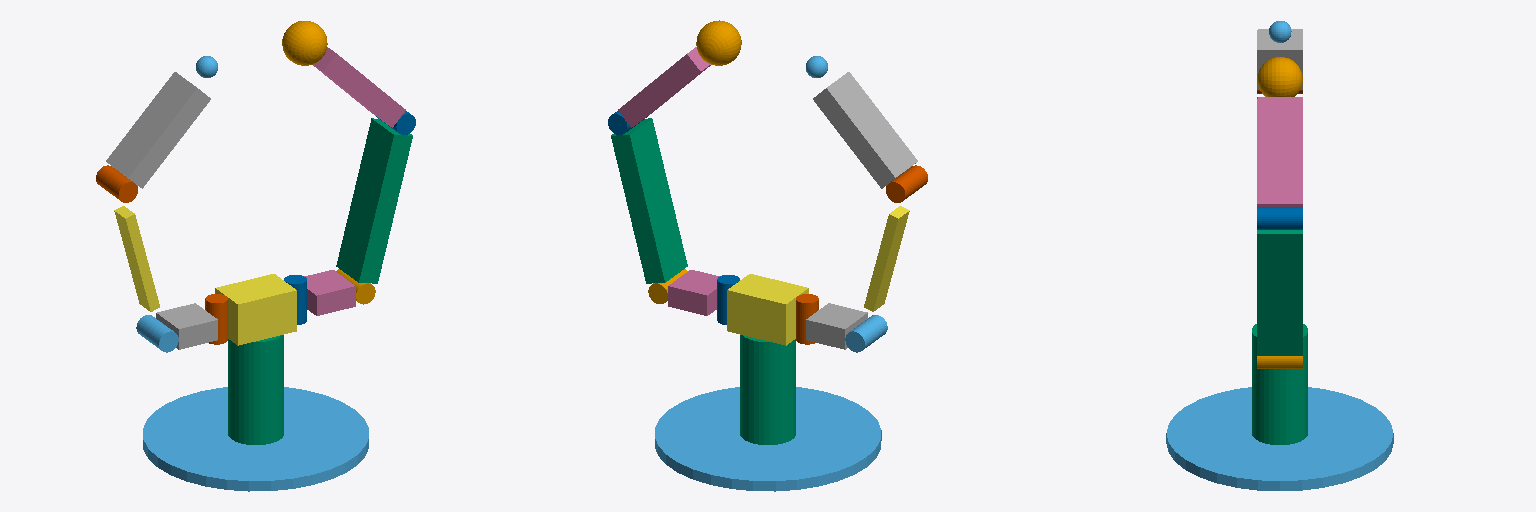
robot.urdf — gripper_v1:
<?xml version="1.0" ?>
<robot name="gripper_v1">
    <!-- ################################################################################################# -->
    <!-- Map -->
    <link name="map" />
    <!-- Base Link -->
    <link name="base_link">
        <visual>
            <geometry>
                <cylinder radius="0.5" length="0.05" />
            </geometry>
            <material name="White" />
        </visual>
        <collision>
            <geometry>
                <cylinder radius="0.4" length="0.04" />
            </geometry>
            <material name="White" />
        </collision>
        <inertial>
            <mass value="1.0" />
            <origin xyz="0 0 0" rpy="0 0 0" />
            <inertia ixx="0.01" ixy="0" ixz="0" iyy="0.01" iyz="0" izz="0.01" />
        </inertial>
    </link>
    <!-- Joint 0 -->
    <joint name="joint_0" type="fixed">
        <parent link="map" />
        <child link="base_link" />
        <origin xyz="0 0 0.025" rpy="0 0 0" />
    </joint>
    <!-- ################################################################################################# -->
    <!-- Link 1-->
    <link name="link_1">
        <visual>
            <geometry>
                <cylinder radius="0.125" length="0.5" />
            </geometry>
            <material name="Blue" />
        </visual>
        <collision>
            <geometry>
                <cylinder radius="0.1" length="0.4" />
            </geometry>
            <material name="Blue" />
        </collision>
        <inertial>
            <mass value="1.0" />
            <origin xyz="0 0 0" rpy="0 0 0" />
            <inertia ixx="0.01" ixy="0" ixz="0" iyy="0.01" iyz="0" izz="0.01" />
        </inertial>
    </link>
    <!-- Joint 1-->
    <joint name="joint_1" type="fixed">
        <parent link="base_link" />
        <child link="link_1" />
        <origin xyz="0 0 0.275" rpy="0 0 0" />
    </joint>
    <!-- ################################################################################################# -->
    <!-- Link 2-->
    <link name="link_2">
        <visual>
            <geometry>
                <box size="0.3 0.2 0.2" />
            </geometry>
            <material name="Red" />
        </visual>
        <collision>
            <geometry>
                <box size="0.2 0.1 0.1" />
            </geometry>
            <material name="Blue" />
        </collision>
        <inertial>
            <mass value="1.0" />
            <origin xyz="0 0 0" rpy="0 0 0" />
            <inertia ixx="0.01" ixy="0" ixz="0" iyy="0.01" iyz="0" izz="0.01" />
        </inertial>
    </link>
    <!-- Joint 2 -->
    <joint name="joint_2" type="revolute">
        <parent link="link_1" />
        <child link="link_2" />
        <origin xyz="0 0 0.35" rpy="0 0 0" />
        <axis xyz="0 0 1" />
        <limit effort="10" lower="-1.57" upper="1.57" velocity="5" />
    </joint>
    <!-- ################################################################################################# -->
    <!-- Link 3-->
    <link name="link_3">
        <visual>
            <geometry>
                <cylinder radius="0.05" length="0.2" />
            </geometry>
            <material name="Red" />
        </visual>
        <collision>
            <geometry>
                <cylinder radius="0.04" length="0.1" />
            </geometry>
            <material name="Blue" />
        </collision>
        <inertial>
            <mass value="1.0" />
            <origin xyz="0 0 0" rpy="0 0 0" />
            <inertia ixx="0.01" ixy="0" ixz="0" iyy="0.01" iyz="0" izz="0.01" />
        </inertial>
    </link>
    <!-- Joint 3 -->
    <joint name="joint_3" type="revolute">
        <parent link="link_2" />
        <child link="link_3" />
        <origin xyz="0.2 0 0" rpy="0 0 0" />
        <axis xyz="0 0 1" />
        <limit effort="10" lower="-1.57" upper="1.57" velocity="5" />
    </joint>
    <!-- Link 4-->
    <link name="link_4">
        <visual>
            <geometry>
                <cylinder radius="0.05" length="0.2" />
            </geometry>
            <material name="Red" />
        </visual>
        <collision>
            <geometry>
                <cylinder radius="0.04" length="0.1" />
            </geometry>
            <material name="Blue" />
        </collision>
        <inertial>
            <mass value="1.0" />
            <origin xyz="0 0 0" rpy="0 0 0" />
            <inertia ixx="0.01" ixy="0" ixz="0" iyy="0.01" iyz="0" izz="0.01" />
        </inertial>
    </link>
    <!-- Joint 4 -->
    <joint name="joint_4" type="revolute">
        <parent link="link_2" />
        <child link="link_4" />
        <origin xyz="-0.2 0 0" rpy="0 0 0" />
        <axis xyz="0 0 1" />
        <limit effort="10" lower="-1.57" upper="1.57" velocity="5" />
    </joint>
    <!-- ################################################################################################# -->
    <!-- Link 5-->
    <link name="link_5">
        <visual>
            <geometry>
                <box size="0.2 0.2 0.1" />
            </geometry>
            <material name="Red" />
        </visual>
        <collision>
            <geometry>
                <box size="0.1 0.1 0.05" />
            </geometry>
            <material name="Blue" />
        </collision>
        <inertial>
            <mass value="1.0" />
            <origin xyz="0 0 0" rpy="0 0 0" />
            <inertia ixx="0.01" ixy="0" ixz="0" iyy="0.01" iyz="0" izz="0.01" />
        </inertial>
    </link>
    <!-- Joint 5 -->
    <joint name="joint_5" type="fixed">
        <parent link="link_3" />
        <child link="link_5" />
        <origin xyz="0.15 0 0" rpy="0 0 0" />
    </joint>
    <!-- Link 6-->
    <link name="link_6">
        <visual>
            <geometry>
                <box size="0.2 0.2 0.1" />
            </geometry>
            <material name="Red" />
        </visual>
        <collision>
            <geometry>
                <box size="0.1 0.1 0.05" />
            </geometry>
            <material name="Blue" />
        </collision>
        <inertial>
            <mass value="1.0" />
            <origin xyz="0 0 0" rpy="0 0 0" />
            <inertia ixx="0.01" ixy="0" ixz="0" iyy="0.01" iyz="0" izz="0.01" />
        </inertial>
    </link>
    <!-- Joint 6 -->
    <joint name="joint_6" type="fixed">
        <parent link="link_4" />
        <child link="link_6" />
        <origin xyz="-0.15 0 0" rpy="0 0 0" />
    </joint>
    <!-- ################################################################################################# -->
    <!-- Link 7-->
    <link name="link_7">
        <visual>
            <geometry>
                <cylinder radius="0.05" length="0.2" />
            </geometry>
            <material name="Red" />
        </visual>
        <collision>
            <geometry>
                <cylinder radius="0.04" length="0.1" />
            </geometry>
            <material name="Blue" />
        </collision>
        <inertial>
            <mass value="1.0" />
            <origin xyz="0 0 0" rpy="0 0 0" />
            <inertia ixx="0.01" ixy="0" ixz="0" iyy="0.01" iyz="0" izz="0.01" />
        </inertial>
    </link>
    <!-- Joint 7 -->
    <joint name="joint_7" type="revolute">
        <parent link="link_5" />
        <child link="link_7" />
        <!-- <origin xyz="0.15 0 0" rpy="1.57 ${2*pi*(15/360)} 0"/> -->
        <origin xyz="0.15 0 0" rpy="1.57 0.26 0" />
        <axis xyz="0 0 1" />
        <limit effort="10" lower="-1.57" upper="1.57" velocity="5" />
    </joint>
    <!-- Link 8-->
    <link name="link_8">
        <visual>
            <geometry>
                <cylinder radius="0.05" length="0.2" />
            </geometry>
            <material name="Red" />
        </visual>
        <collision>
            <geometry>
                <cylinder radius="0.04" length="0.1" />
            </geometry>
            <material name="Blue" />
        </collision>
        <inertial>
            <mass value="1.0" />
            <origin xyz="0 0 0" rpy="0 0 0" />
            <inertia ixx="0.01" ixy="0" ixz="0" iyy="0.01" iyz="0" izz="0.01" />
        </inertial>
    </link>
    <!-- Joint 8 -->
    <joint name="joint_8" type="revolute">
        <parent link="link_6" />
        <child link="link_8" />
        <!-- <origin xyz="-0.15 0 0" rpy="1.57 ${-2*pi*(15/360)} 0"/> -->
        <origin xyz="-0.15 0 0" rpy="1.57 -0.26 0" />
        <axis xyz="0 0 1" />
        <limit effort="10" lower="-1.57" upper="1.57" velocity="5" />
    </joint>
    <!-- ################################################################################################# -->
    <!-- Link 9-->
    <link name="link_9">
        <visual>
            <geometry>
                <box size="0.1 0.7 0.2" />
            </geometry>
            <material name="Red" />
        </visual>
        <collision>
            <geometry>
                <box size="0.05 0.5 0.1" />
            </geometry>
            <material name="Blue" />
        </collision>
        <inertial>
            <mass value="1.0" />
            <origin xyz="0 0 0" rpy="0 0 0" />
            <inertia ixx="0.01" ixy="0" ixz="0" iyy="0.01" iyz="0" izz="0.01" />
        </inertial>
    </link>
    <!-- Joint 9 -->
    <joint name="joint_9" type="fixed">
        <parent link="link_7" />
        <child link="link_9" />
        <origin xyz="0 0.4 0" rpy="0 0 0" />
    </joint>
    <!-- Link 10-->
    <link name="link_10">
        <visual>
            <geometry>
                <box size="0.05 0.5 0.1" />
            </geometry>
            <material name="Red" />
        </visual>
        <collision>
            <geometry>
                <box size="0.1 0.7 0.2" />
            </geometry>
            <material name="Blue" />
        </collision>
        <inertial>
            <mass value="1.0" />
            <origin xyz="0 0 0" rpy="0 0 0" />
            <inertia ixx="0.01" ixy="0" ixz="0" iyy="0.01" iyz="0" izz="0.01" />
        </inertial>
    </link>
    <!-- Joint 10 -->
    <joint name="joint_10" type="fixed">
        <parent link="link_8" />
        <child link="link_10" />
        <origin xyz="0 0.4 0" rpy="0 0 0" />
    </joint>
    <!-- ################################################################################################# -->
    <!-- Link 11-->
    <link name="link_11">
        <visual>
            <geometry>
                <cylinder radius="0.05" length="0.2" />
            </geometry>
            <material name="Red" />
        </visual>
        <collision>
            <geometry>
                <cylinder radius="0.04" length="0.1" />
            </geometry>
            <material name="Blue" />
        </collision>
        <inertial>
            <mass value="1.0" />
            <origin xyz="0 0 0" rpy="0 0 0" />
            <inertia ixx="0.01" ixy="0" ixz="0" iyy="0.01" iyz="0" izz="0.01" />
        </inertial>
    </link>
    <!-- Joint 11 -->
    <joint name="joint_11" type="revolute">
        <parent link="link_9" />
        <child link="link_11" />
        <!-- <origin xyz="0 0.4 0" rpy="0 0 ${2*pi*(60/360)}"/> -->
        <origin xyz="0 0.4 0" rpy="0 0 1.04" />
        <axis xyz="0 0 1" />
        <limit effort="10" lower="-1.57" upper="1.57" velocity="5" />
    </joint>
    <!-- Link 12-->
    <link name="link_12">
        <visual>
            <geometry>
                <cylinder radius="0.05" length="0.2" />
            </geometry>
            <material name="Red" />
        </visual>
        <collision>
            <geometry>
                <cylinder radius="0.04" length="0.1" />
            </geometry>
            <material name="Blue" />
        </collision>
        <inertial>
            <mass value="1.0" />
            <origin xyz="0 0 0" rpy="0 0 0" />
            <inertia ixx="0.01" ixy="0" ixz="0" iyy="0.01" iyz="0" izz="0.01" />
        </inertial>
    </link>
    <!-- Joint 12 -->
    <joint name="joint_12" type="revolute">
        <parent link="link_10" />
        <child link="link_12" />
        <!-- <origin xyz="0 0.4 0" rpy="0 0 ${-2*pi*(60/360)}"/> -->
        <origin xyz="0 0.4 0" rpy="0 0 -1.04" />
        <axis xyz="0 0 1" />
        <limit effort="10" lower="-1.57" upper="1.57" velocity="5" />
    </joint>
    <!-- ################################################################################################# -->
    <!-- Link 13-->
    <link name="link_13">
        <visual>
            <geometry>
                <box size="0.1 0.5 0.2" />
            </geometry>
            <material name="Red" />
        </visual>
        <collision>
            <geometry>
                <box size="0.05 0.3 0.1" />
            </geometry>
            <material name="Blue" />
        </collision>
        <inertial>
            <mass value="1.0" />
            <origin xyz="0 0 0" rpy="0 0 0" />
            <inertia ixx="0.01" ixy="0" ixz="0" iyy="0.01" iyz="0" izz="0.01" />
        </inertial>
    </link>
    <!-- Joint 13 -->
    <joint name="joint_13" type="fixed">
        <parent link="link_11" />
        <child link="link_13" />
        <origin xyz="0 0.3 0" rpy="0 0 0" />
    </joint>
    <!-- Link 14-->
    <link name="link_14">
        <visual>
            <geometry>
                <box size="0.1 0.5 0.2" />
            </geometry>
            <material name="Red" />
        </visual>
        <collision>
            <geometry>
                <box size="0.05 0.3 0.1" />
            </geometry>
            <material name="Blue" />
        </collision>
        <inertial>
            <mass value="1.0" />
            <origin xyz="0 0 0" rpy="0 0 0" />
            <inertia ixx="0.01" ixy="0" ixz="0" iyy="0.01" iyz="0" izz="0.01" />
        </inertial>
    </link>
    <!-- Joint 14 -->
    <joint name="joint_14" type="fixed">
        <parent link="link_12" />
        <child link="link_14" />
        <origin xyz="0 0.3 0" rpy="0 0 0" />
    </joint>
    <!-- ################################################################################################# -->
    <!-- Link 15-->
    <link name="link_15">
        <visual>
            <geometry>
                <sphere radius="0.1" />
            </geometry>
            <material name="Red" />
        </visual>
        <collision>
            <geometry>
                <sphere radius="0.05" />
            </geometry>
            <material name="Blue" />
        </collision>
        <inertial>
            <mass value="1.0" />
            <origin xyz="0 0 0" rpy="0 0 0" />
            <inertia ixx="0.01" ixy="0" ixz="0" iyy="0.01" iyz="0" izz="0.01" />
        </inertial>
    </link>
    <!-- Joint 15 -->
    <joint name="joint_15" type="fixed">
        <parent link="link_13" />
        <child link="link_15" />
        <origin xyz="0 0.35 0" rpy="0 0 0" />
    </joint>
    <!-- Link 16-->
    <link name="link_16">
        <visual>
            <geometry>
                <sphere radius="0.05" />
            </geometry>
            <material name="Red" />
        </visual>
        <collision>
            <geometry>
                <sphere radius="0.1" />
            </geometry>
            <material name="Blue" />
        </collision>
        <inertial>
            <mass value="1.0" />
            <origin xyz="0 0 0" rpy="0 0 0" />
            <inertia ixx="0.01" ixy="0" ixz="0" iyy="0.01" iyz="0" izz="0.01" />
        </inertial>
    </link>
    <!-- Joint 16 -->
    <joint name="joint_16" type="fixed">
        <parent link="link_14" />
        <child link="link_16" />
        <origin xyz="0 0.35 0" rpy="0 0 0" />
    </joint>
    <!-- ################################################################################################# -->
    <!-- Gazebo plugin for ROS integration -->
    <gazebo>
        <plugin name="gazebo_ros_control" filename="libgazebo_ros_control.so">
            <robotNamespace>/</robotNamespace>
            <controlPeriod>0.001</controlPeriod>
            <robotSimType>gazebo_ros_control/DefaultRobotHWSim</robotSimType>
        </plugin>
    </gazebo>
    <gazebo reference="base_link">
        <material>Gazebo/White</material>
    </gazebo>
    <gazebo reference="link_1">
        <material>Gazebo/Blue</material>
    </gazebo>
    <gazebo reference="link_2">
        <material>Gazebo/Red</material>
    </gazebo>
    <transmission name="trans_joint_2">
        <type>transmission_interface/SimpleTransmission</type>
        <joint name="joint_2">
            <hardwareInterface>hardware_interface/EffortJointInterface</hardwareInterface>
        </joint>
        <actuator name="joint_2_motor">
            <hardwareInterface>hardware_interface/EffortJointInterface</hardwareInterface>
            <mechanicalReduction>1</mechanicalReduction>
        </actuator>
    </transmission>
    <transmission name="trans_joint_3">
        <type>transmission_interface/SimpleTransmission</type>
        <joint name="joint_3">
            <hardwareInterface>hardware_interface/EffortJointInterface</hardwareInterface>
        </joint>
        <actuator name="joint_3_motor">
            <hardwareInterface>hardware_interface/EffortJointInterface</hardwareInterface>
            <mechanicalReduction>1</mechanicalReduction>
        </actuator>
    </transmission>
    <transmission name="trans_joint_4">
        <type>transmission_interface/SimpleTransmission</type>
        <joint name="joint_4">
            <hardwareInterface>hardware_interface/EffortJointInterface</hardwareInterface>
        </joint>
        <actuator name="joint_4_motor">
            <hardwareInterface>hardware_interface/EffortJointInterface</hardwareInterface>
            <mechanicalReduction>1</mechanicalReduction>
        </actuator>
    </transmission>
    <transmission name="trans_joint_7">
        <type>transmission_interface/SimpleTransmission</type>
        <joint name="joint_7">
            <hardwareInterface>hardware_interface/EffortJointInterface</hardwareInterface>
        </joint>
        <actuator name="joint_7_motor">
            <hardwareInterface>hardware_interface/EffortJointInterface</hardwareInterface>
            <mechanicalReduction>1</mechanicalReduction>
        </actuator>
    </transmission>
    <transmission name="trans_joint_8">
        <type>transmission_interface/SimpleTransmission</type>
        <joint name="joint_8">
            <hardwareInterface>hardware_interface/EffortJointInterface</hardwareInterface>
        </joint>
        <actuator name="joint_8_motor">
            <hardwareInterface>hardware_interface/EffortJointInterface</hardwareInterface>
            <mechanicalReduction>1</mechanicalReduction>
        </actuator>
    </transmission>
    <transmission name="trans_joint_11">
        <type>transmission_interface/SimpleTransmission</type>
        <joint name="joint_11">
            <hardwareInterface>hardware_interface/EffortJointInterface</hardwareInterface>
        </joint>
        <actuator name="joint_11_motor">
            <hardwareInterface>hardware_interface/EffortJointInterface</hardwareInterface>
            <mechanicalReduction>1</mechanicalReduction>
        </actuator>
    </transmission>
    <transmission name="trans_joint_12">
        <type>transmission_interface/SimpleTransmission</type>
        <joint name="joint_12">
            <hardwareInterface>hardware_interface/EffortJointInterface</hardwareInterface>
        </joint>
        <actuator name="joint_12_motor">
            <hardwareInterface>hardware_interface/EffortJointInterface</hardwareInterface>
            <mechanicalReduction>1</mechanicalReduction>
        </actuator>
    </transmission>
</robot>

--- What the picture shows (computed from the rendered views, not written in the file) ---
Views: 3 orthographic renders of the robot side by side, from view 1: azimuth 30°, elevation 25°; view 2: azimuth 150°, elevation 25°; view 3: azimuth 270°, elevation 25°.
Robot: gripper_v1 — 18 links, 17 joints (7 revolute, 10 fixed); root link map; default pose: all joints at 0.
Links seen in each view (by area): view 1: base_link, link_9, link_1, link_14, link_2, link_13, link_10, link_6, link_5, link_15, link_8, link_12 (+2 smaller); view 2: base_link, link_9, link_1, link_14, link_2, link_13, link_10, link_6, link_5, link_15, link_8, link_12 (+2 smaller); view 3: base_link, link_9, link_13, link_1, link_15, link_14, link_11, link_7.
Boxes of the visible links, x1,y1,x2,y2 form: base_link: (143,387,368,491); link_9: (336,118,412,283); link_1: (228,335,283,444); link_14: (106,72,210,188); link_2: (215,274,296,345); link_13: (313,47,405,127); link_10: (114,206,159,311); link_6: (156,303,217,349); link_5: (304,270,355,315); link_15: (282,21,327,65); link_8: (136,315,178,352); link_12: (96,165,137,202); base_link: (655,387,881,491); link_9: (611,118,687,283); link_1: (740,335,795,444); link_14: (813,72,917,188); link_2: (727,274,808,345); link_13: (618,47,710,127); link_10: (864,206,909,311); link_6: (806,303,867,349); link_5: (668,270,719,315); link_15: (696,20,741,65); link_8: (845,315,887,352); link_12: (886,165,927,202); base_link: (1166,387,1393,490); link_9: (1257,230,1302,355); link_13: (1257,97,1302,206); link_1: (1252,324,1307,444); link_15: (1258,57,1302,96); link_14: (1257,29,1302,89); link_11: (1257,207,1302,229); link_7: (1257,356,1302,368).
Bounding box of the posed robot: 1.51 × 1 × 1.99 m (x, y, z).
Geometry: primitives only (box / cylinder / sphere), no mesh files.